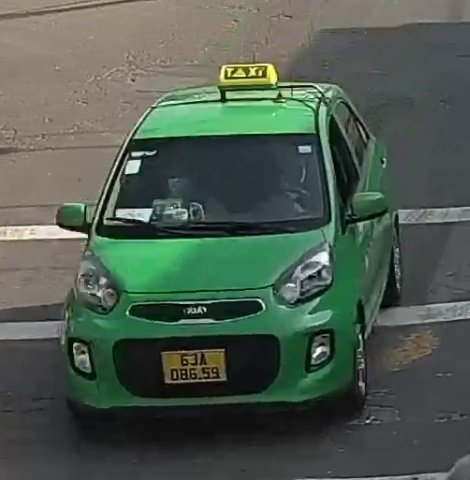vehicle plate: (157, 343, 233, 387)
